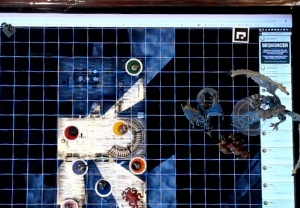blue: (93, 177, 113, 199)
green: (122, 55, 143, 78)
orange: (128, 154, 149, 174)
pink: (57, 196, 80, 207)
red: (62, 122, 81, 145)
violet: (70, 157, 90, 177)
yellow: (109, 118, 130, 139)
